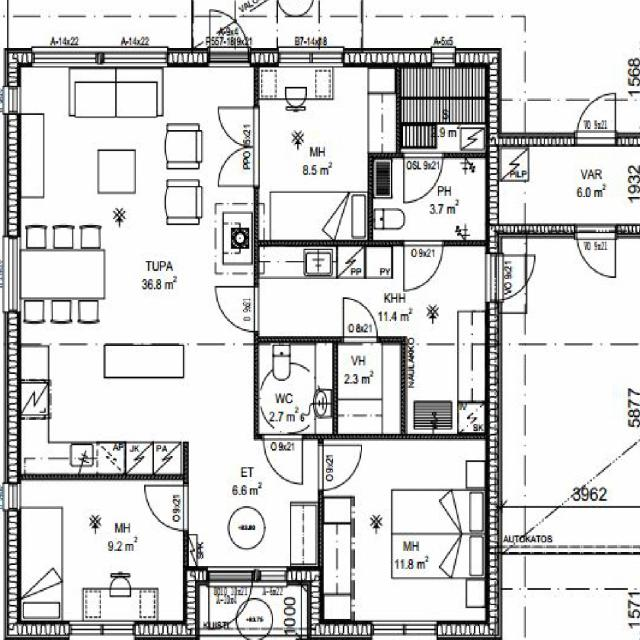door: (208, 566, 252, 636), (210, 4, 248, 66), (486, 255, 538, 299), (577, 87, 615, 146), (577, 224, 615, 282), (144, 485, 189, 530), (404, 152, 442, 203), (318, 446, 362, 490), (404, 240, 442, 290), (264, 434, 302, 483), (216, 288, 259, 331), (220, 108, 259, 148), (220, 147, 259, 187), (343, 298, 377, 343)
